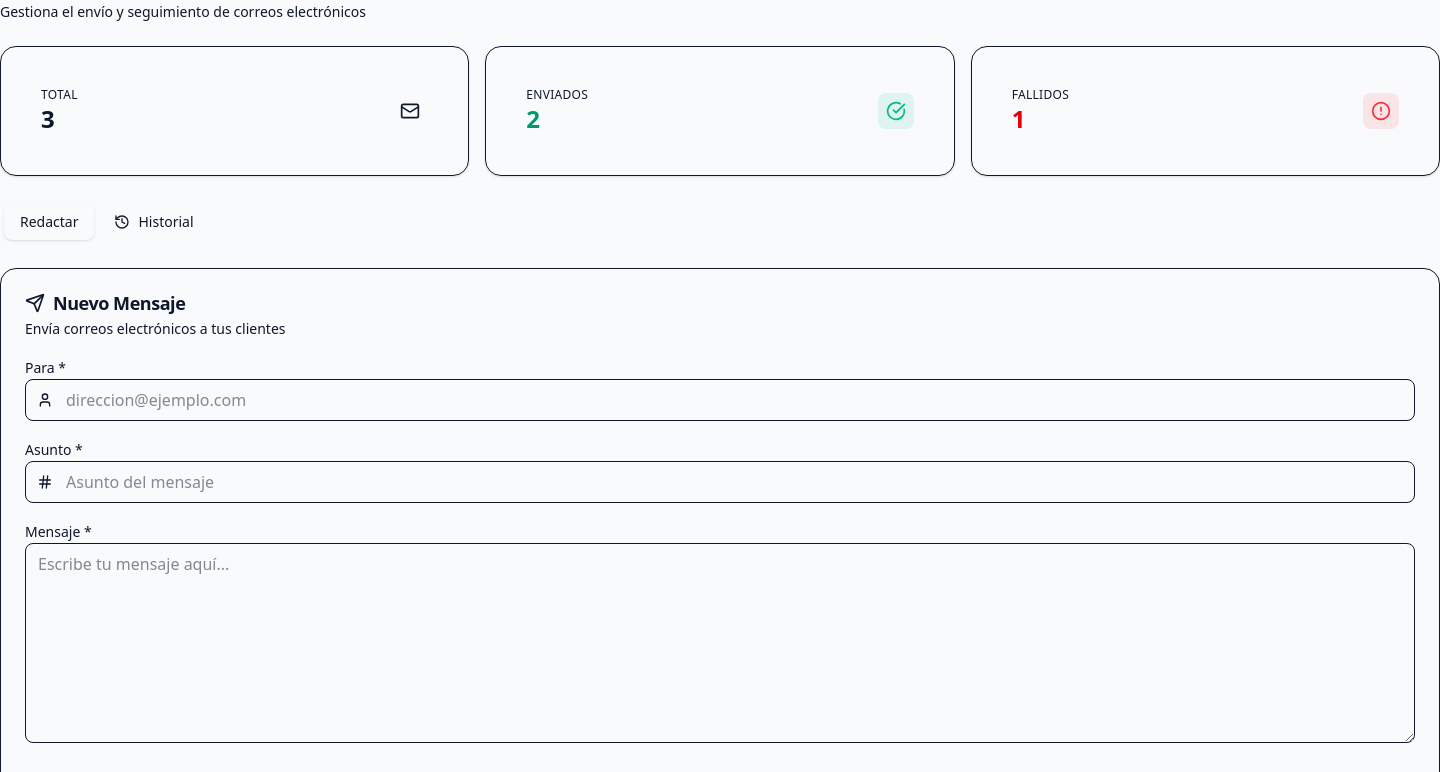
Test: MailPage › debe mostrar error si falla el envío
This screenshot has width=1440, height=772.
Type "cliente@ejemplo.com" into the field with placeholder "direccion@ejemplo.com". click: (720, 400)
box: 25,379 -> 1415,421
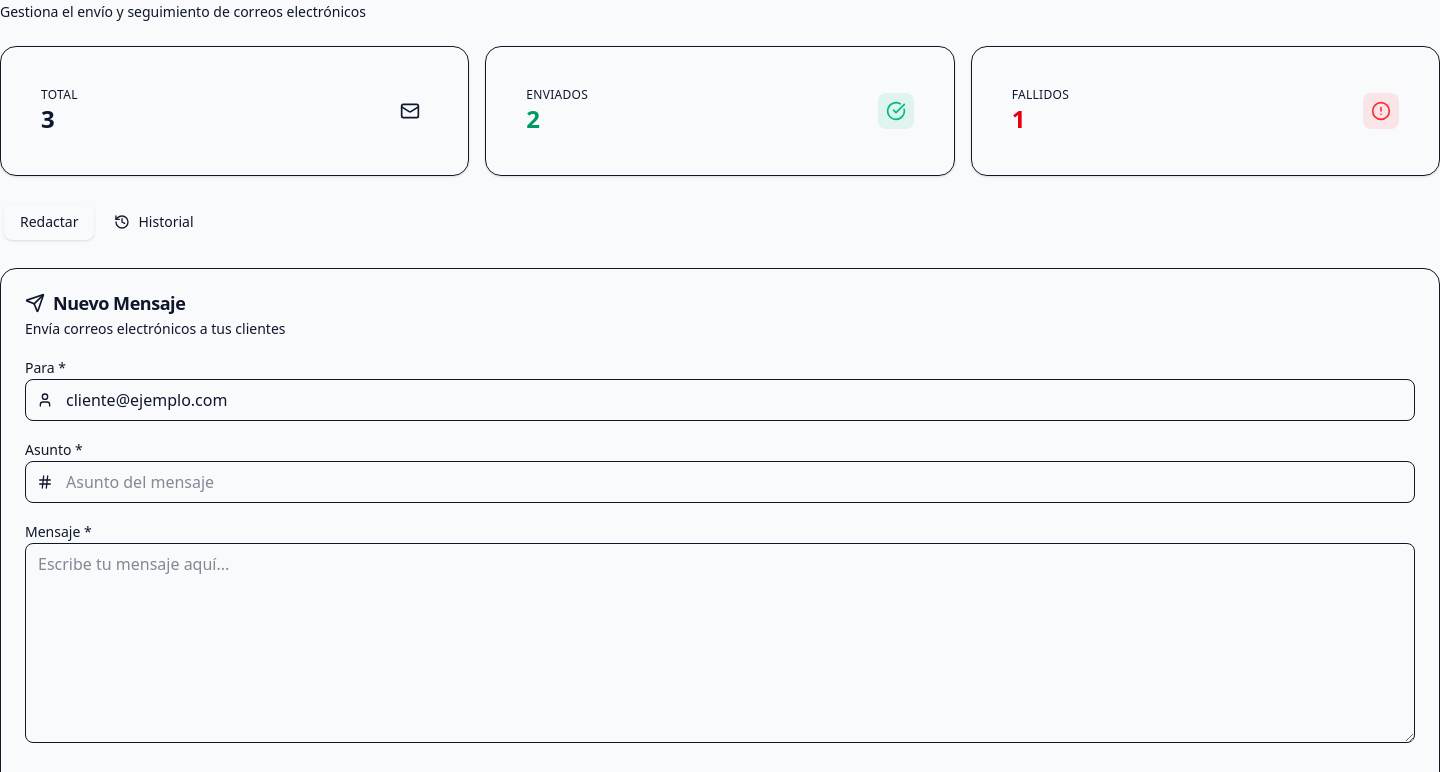
Type "Asunto" into the field with placeholder "Asunto del mensaje". click: (720, 482)
box: 25,461 -> 1415,503
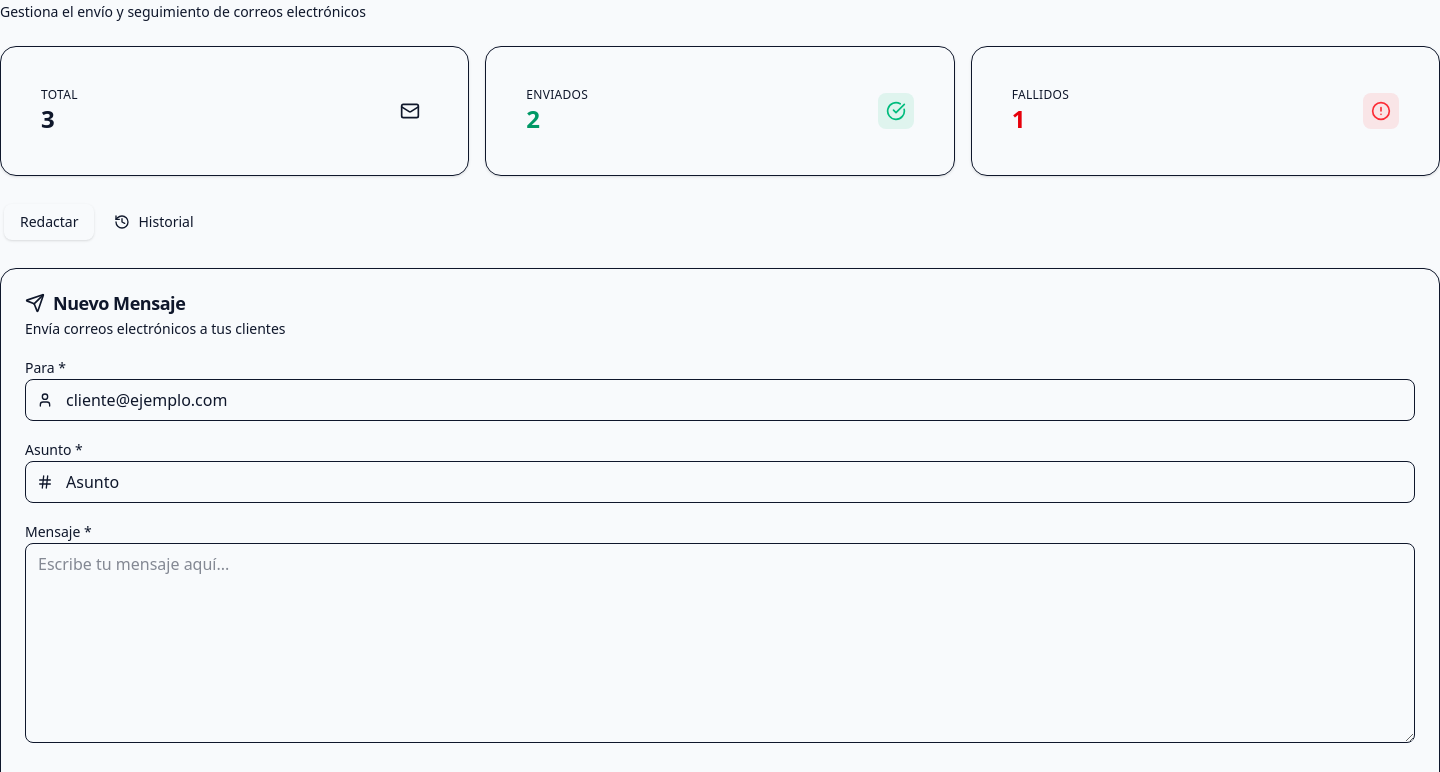
Type "Mensaje" into the text box with placeholder "Escribe tu mensaje aquí...". click: (720, 643)
box: 25,543 -> 1415,743
(page scrolled)
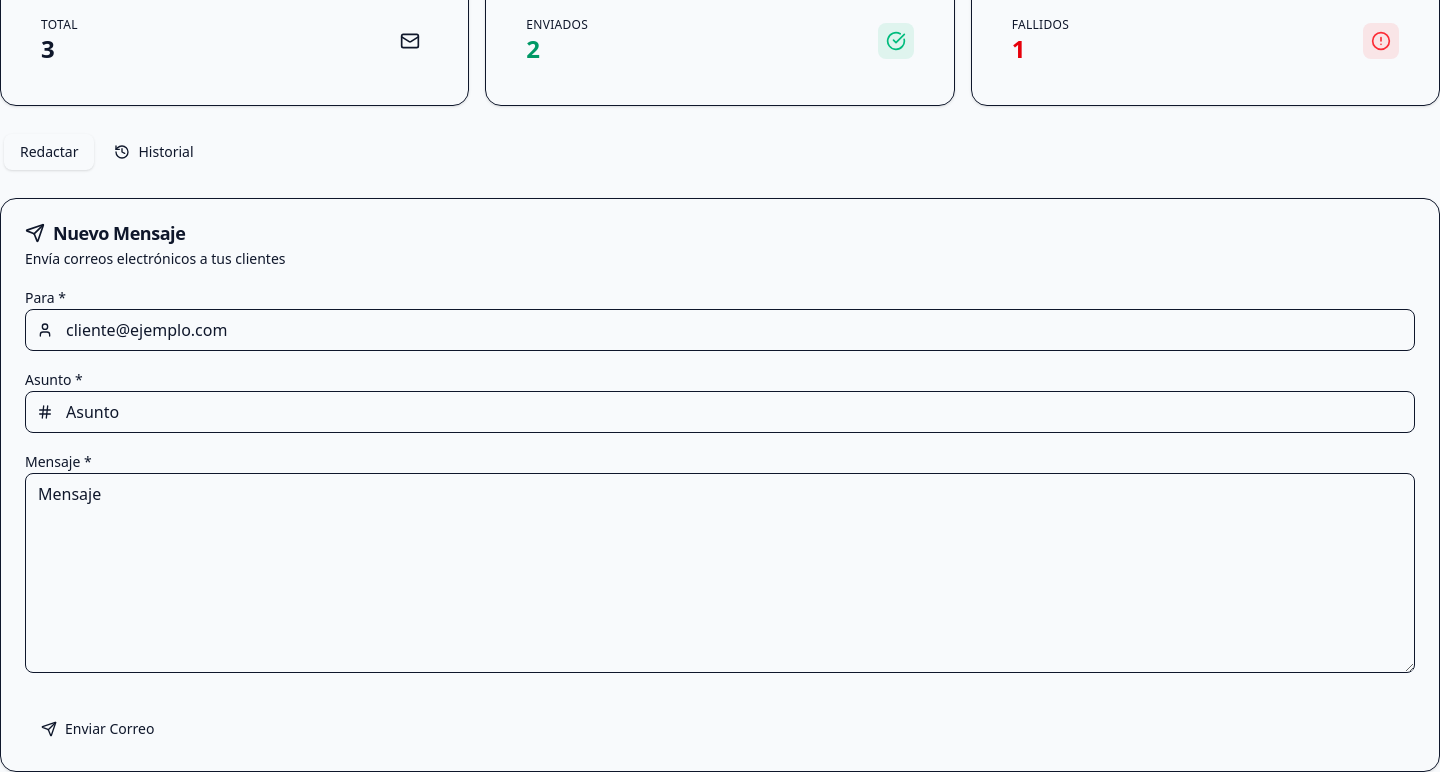
Click the button "Enviar Correo". click: (98, 729)
box: 25,711 -> 170,747
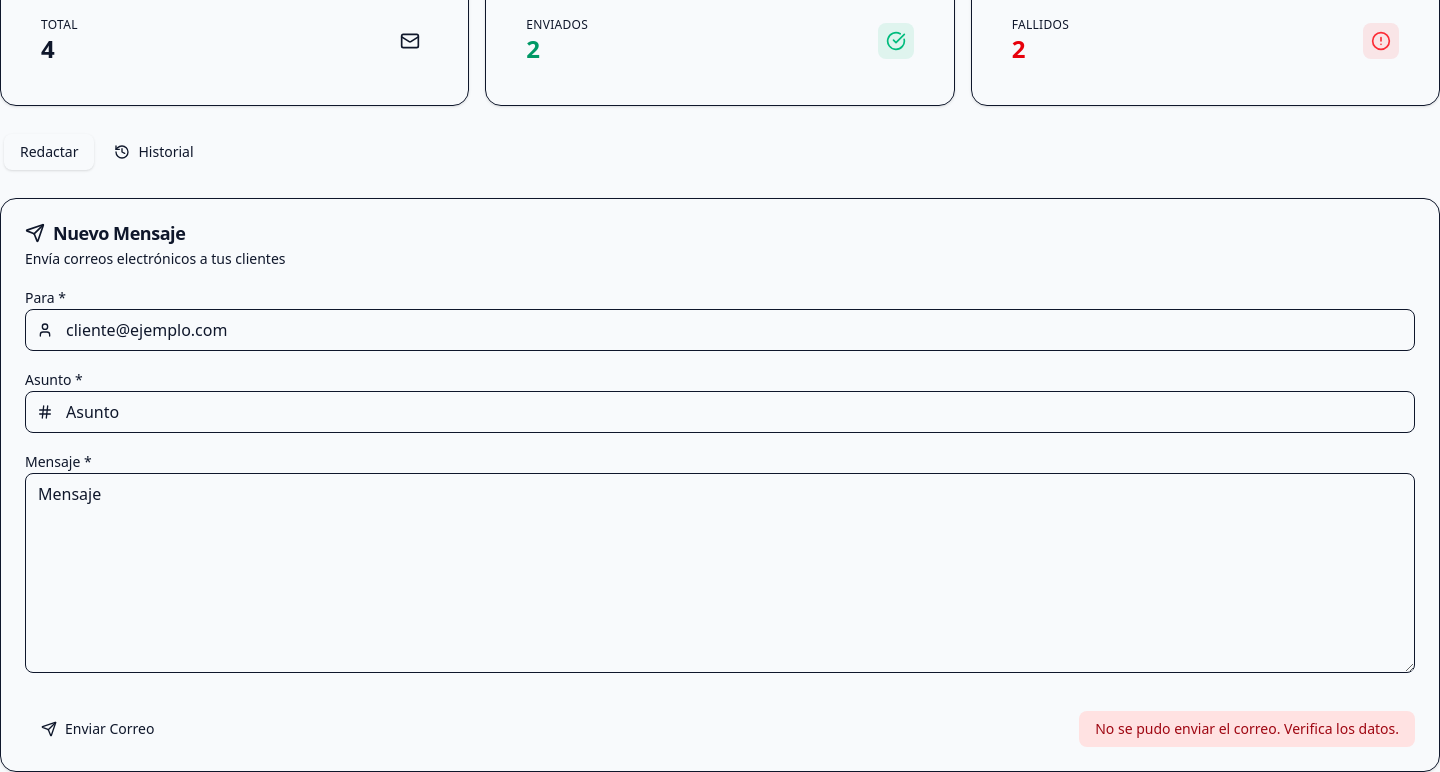
Result: the text "No se pudo enviar el correo. Verifica los datos." is shown at 1079,711 -> 1415,747
